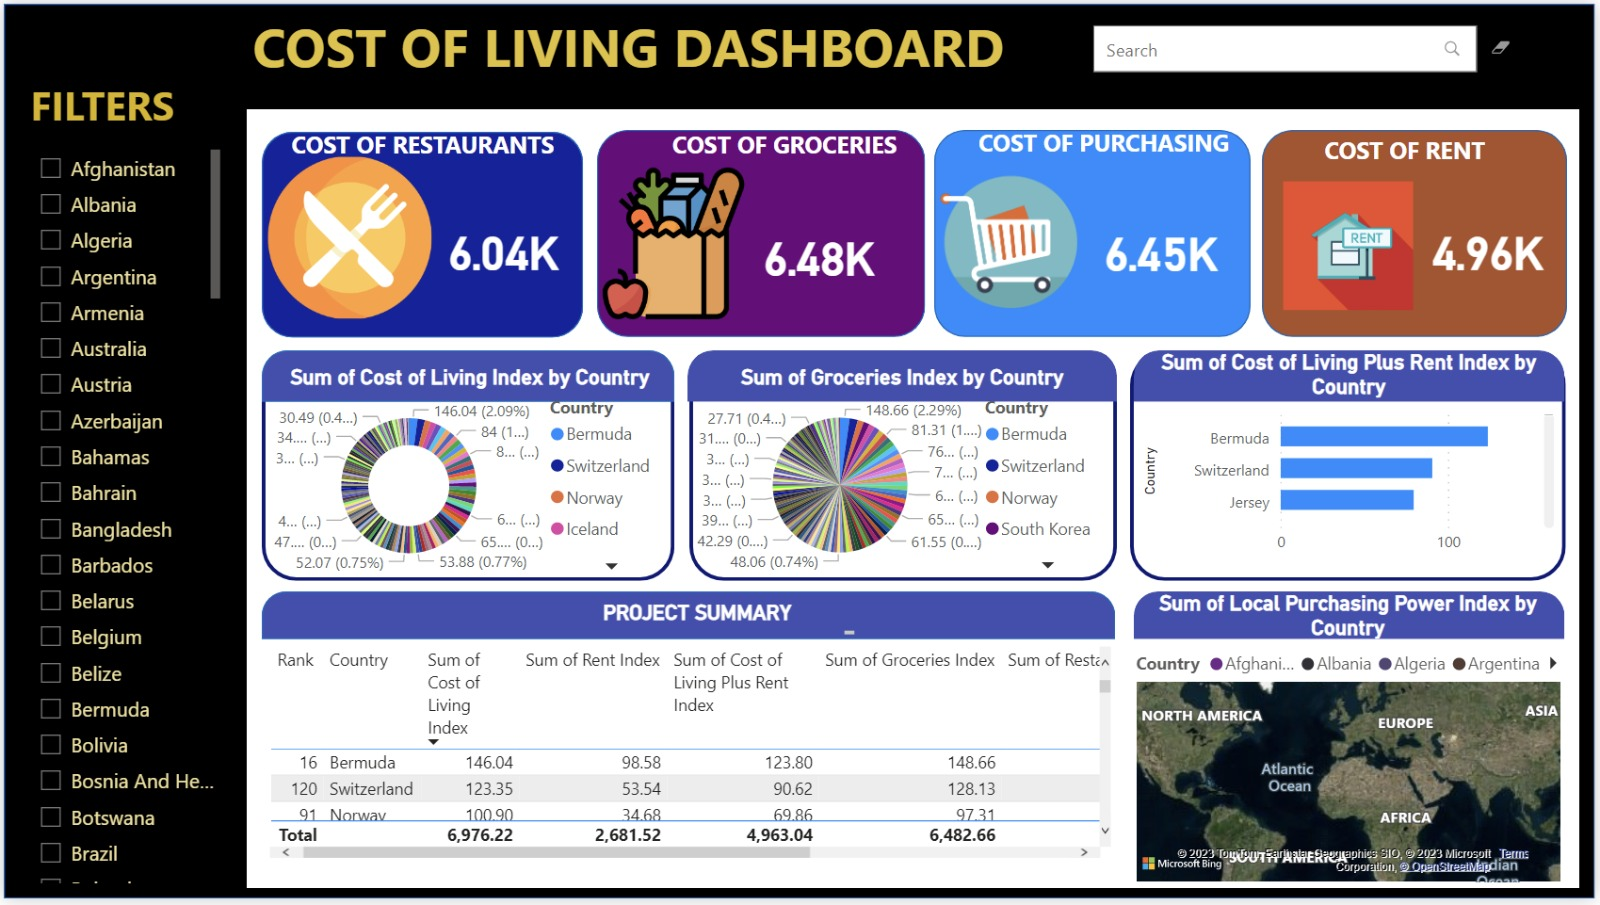

The page's visual inventory and layout, read from the dashboard file:
{"tool":"powerbi","page":{"name":"Dashboard","canvas":[1280,720],"ordinal":4},"visuals":[{"type":"shape","box":[0,0,1280,720],"z":0},{"type":"image","box":[748.6,148.6,100,100],"z":1000},{"type":"image","box":[1088.6,148.6,100,100],"z":2000},{"type":"image","box":[505.7,142.9,100,100],"z":3000},{"type":"shape","box":[196,85.3,1072,626.7],"z":4000},{"type":"shape","box":[208,102.7,258.7,165.3],"z":5000},{"type":"shape","box":[477.3,101.3,264,166.7],"z":6000},{"type":"shape","box":[748,101.3,254.7,166.7],"z":7000},{"type":"shape","box":[1012,101.3,245.3,166.7],"z":8000},{"type":"image","box":[473.3,122.7,132,140],"z":9000},{"type":"image","box":[208,118.7,141.3,140],"z":10000},{"type":"image","box":[748,121.3,120,140],"z":11000},{"type":"textbox","box":[196,0,716,85.3],"z":12000},{"type":"textFilter25A4896A83E0487089E2B90C9AE57C8A","fields":{"field":["Cost_of_Living_Index_2022.Country"]},"box":[871.4,12.9,357.1,52.9],"z":13000},{"type":"slicer","fields":{"Values":["Cost_of_Living_Index_2022.Country"]},"box":[17.3,112,162.7,600],"z":14000},{"type":"textbox","box":[17.1,54.3,190,61.4],"z":15000},{"type":"textbox","box":[517.1,95.7,222.9,41.4],"z":16000},{"type":"textbox","box":[734.3,94.3,300,35.7],"z":17000},{"type":"textbox","box":[1024,100,205.3,42.7],"z":18000},{"type":"textbox","box":[220,96,234.7,34.7],"z":19000},{"type":"card","fields":{"Values":["Sum(Cost_of_Living_Index_2022.Restaurant Price Index)"]},"box":[348,154.7,106.7,85.3],"z":20000},{"type":"card","fields":{"Values":["Sum(Cost_of_Living_Index_2022.Groceries Index)"]},"box":[584.4,154.7,141.3,96],"z":21000},{"type":"card","fields":{"Values":["Sum(Cost_of_Living_Index_2022.Local Purchasing Power Index)"]},"box":[866.2,154.7,128,88],"z":22000},{"type":"card","fields":{"Values":["Sum(Cost_of_Living_Index_2022.Cost of Living Plus Rent Index)"]},"box":[1134.7,154.7,117.3,86.7],"z":23000},{"type":"shape","box":[208,278.7,332,185.3],"z":24000},{"type":"shape","box":[552,278.7,344,185.3],"z":25000},{"type":"shape","box":[906.7,278.7,350.7,185.3],"z":26000},{"type":"shape","box":[208,473.3,688,228],"z":27000},{"type":"shape","box":[908,473.3,350.7,228],"z":28000},{"type":"shape","box":[208,278.7,332,41.3],"z":29000},{"type":"shape","box":[550.7,278.7,345.3,41.3],"z":30000},{"type":"shape","box":[909.3,278.7,346.7,41.3],"z":31000},{"type":"shape","box":[208,473.3,686.7,38.7],"z":32000},{"type":"shape","box":[909.3,473.3,346.7,38.7],"z":33000},{"type":"donutChart","fields":{"Y":["Sum(Cost_of_Living_Index_2022.Cost of Living Index)"],"Category":["Cost_of_Living_Index_2022.Country"]},"box":[208,290.7,334.7,174.7],"z":34000},{"type":"pieChart","fields":{"Y":["Sum(Cost_of_Living_Index_2022.Groceries Index)"],"Category":["Cost_of_Living_Index_2022.Country"]},"box":[552,290.7,342.7,173.3],"z":35000},{"type":"tableEx","fields":{"Values":["Cost_of_Living_Index_2022.Rank","Cost_of_Living_Index_2022.Country","Sum(Cost_of_Living_Index_2022.Cost of Living Index)","Sum(Cost_of_Living_Index_2022.Rent Index)","Sum(Cost_of_Living_Index_2022.Cost of Living Plus Rent Index)","Sum(Cost_of_Living_Index_2022.Groceries Index)","Sum(Cost_of_Living_Index_2022.Restaurant Price Index)","Sum(Cost_of_Living_Index_2022.Local Purchasing Power Index)"]},"box":[209.3,512,686.7,180],"z":36000},{"type":"textbox","title":"PROJECT SUMMARY","box":[477.3,480,212,32],"z":37000},{"type":"map","fields":{"Size":["Sum(Cost_of_Living_Index_2022.Local Purchasing Power Index)"],"Series":["Cost_of_Living_Index_2022.Country"]},"box":[906.7,473.3,350.7,238.7],"z":38000},{"type":"barChart","fields":{"Category":["Cost_of_Living_Index_2022.Country"],"Y":["Sum(Cost_of_Living_Index_2022.Cost of Living Plus Rent Index)"]},"box":[912,278.7,340,172],"z":39000},{"type":"image","box":[1024,137.3,114.7,113.3],"z":40000}]}

Visuals, with their boxes in screenshot pixels (x1, y1, x2, y2), scaled from the page's 1280x720 canvas onto the 1600x905 screenshot:
shape: pyautogui.locateOnScreen(0, 0, 1599, 904)
image: pyautogui.locateOnScreen(936, 187, 1061, 312)
image: pyautogui.locateOnScreen(1361, 187, 1486, 312)
image: pyautogui.locateOnScreen(632, 180, 757, 305)
shape: pyautogui.locateOnScreen(245, 107, 1585, 895)
shape: pyautogui.locateOnScreen(260, 129, 583, 337)
shape: pyautogui.locateOnScreen(597, 127, 927, 337)
shape: pyautogui.locateOnScreen(935, 127, 1253, 337)
shape: pyautogui.locateOnScreen(1265, 127, 1572, 337)
image: pyautogui.locateOnScreen(592, 154, 757, 330)
image: pyautogui.locateOnScreen(260, 149, 437, 325)
image: pyautogui.locateOnScreen(935, 152, 1085, 328)
textbox: pyautogui.locateOnScreen(245, 0, 1140, 107)
textFilter25A4896A83E0487089E2B90C9AE57C8A - Cost_of_Living_Index_2022.Country: pyautogui.locateOnScreen(1089, 16, 1536, 83)
slicer - Cost_of_Living_Index_2022.Country: pyautogui.locateOnScreen(22, 141, 225, 895)
textbox: pyautogui.locateOnScreen(21, 68, 259, 145)
textbox: pyautogui.locateOnScreen(646, 120, 925, 172)
textbox: pyautogui.locateOnScreen(918, 119, 1293, 163)
textbox: pyautogui.locateOnScreen(1280, 126, 1537, 179)
textbox: pyautogui.locateOnScreen(275, 121, 568, 164)
card - Sum(Cost_of_Living_Index_2022.Restaurant Price Index): pyautogui.locateOnScreen(435, 194, 568, 302)
card - Sum(Cost_of_Living_Index_2022.Groceries Index): pyautogui.locateOnScreen(730, 194, 907, 315)
card - Sum(Cost_of_Living_Index_2022.Local Purchasing Power Index): pyautogui.locateOnScreen(1083, 194, 1243, 305)
card - Sum(Cost_of_Living_Index_2022.Cost of Living Plus Rent Index): pyautogui.locateOnScreen(1418, 194, 1565, 303)
shape: pyautogui.locateOnScreen(260, 350, 675, 583)
shape: pyautogui.locateOnScreen(690, 350, 1120, 583)
shape: pyautogui.locateOnScreen(1133, 350, 1572, 583)
shape: pyautogui.locateOnScreen(260, 595, 1120, 881)
shape: pyautogui.locateOnScreen(1135, 595, 1573, 881)
shape: pyautogui.locateOnScreen(260, 350, 675, 402)
shape: pyautogui.locateOnScreen(688, 350, 1120, 402)
shape: pyautogui.locateOnScreen(1137, 350, 1570, 402)
shape: pyautogui.locateOnScreen(260, 595, 1118, 644)
shape: pyautogui.locateOnScreen(1137, 595, 1570, 644)
donutChart - Sum(Cost_of_Living_Index_2022.Cost of Living Index) x Cost_of_Living_Index_2022.Country: pyautogui.locateOnScreen(260, 365, 678, 585)
pieChart - Sum(Cost_of_Living_Index_2022.Groceries Index) x Cost_of_Living_Index_2022.Country: pyautogui.locateOnScreen(690, 365, 1118, 583)
tableEx - Cost_of_Living_Index_2022.Rank x Cost_of_Living_Index_2022.Country: pyautogui.locateOnScreen(262, 644, 1120, 870)
"PROJECT SUMMARY" textbox: pyautogui.locateOnScreen(597, 603, 862, 644)
map - Sum(Cost_of_Living_Index_2022.Local Purchasing Power Index) x Cost_of_Living_Index_2022.Country: pyautogui.locateOnScreen(1133, 595, 1572, 895)
barChart - Cost_of_Living_Index_2022.Country x Sum(Cost_of_Living_Index_2022.Cost of Living Plus Rent Index): pyautogui.locateOnScreen(1140, 350, 1565, 567)
image: pyautogui.locateOnScreen(1280, 173, 1423, 315)
